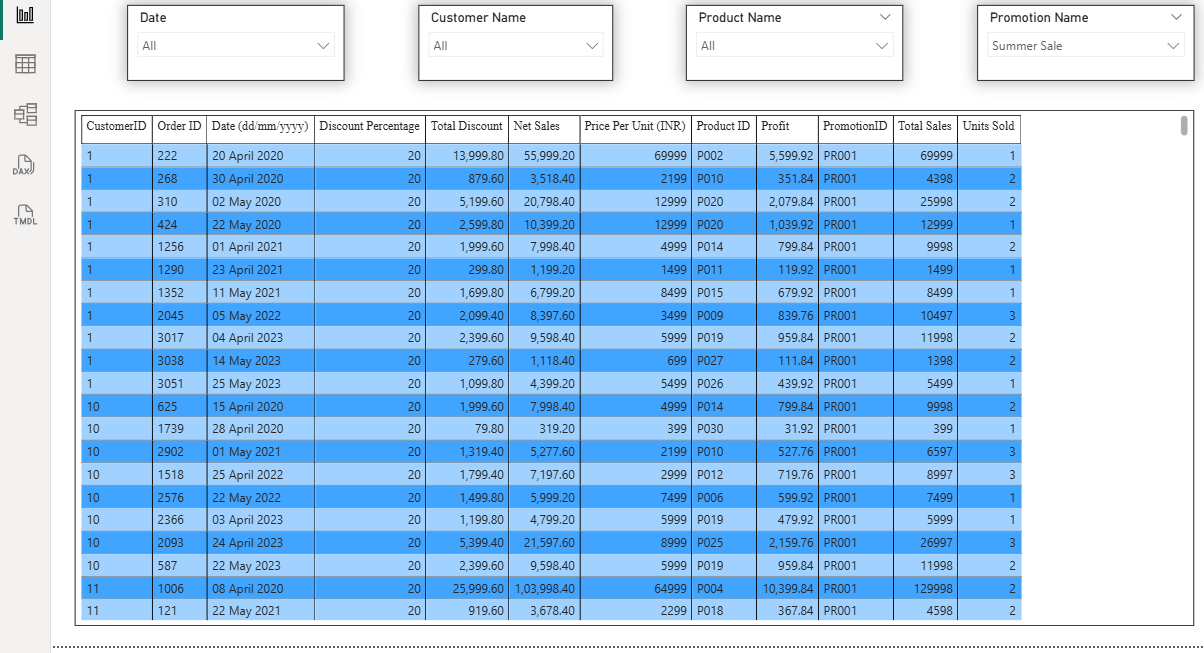

The page's visual inventory and layout, read from the dashboard file:
{"tool":"powerbi","page":{"name":"Table Visual","canvas":[1280,720],"ordinal":4},"visuals":[{"type":"tableEx","fields":{"Values":["Fact Table.CustomerID","Fact Table.Order ID","Fact Table.Date (dd/mm/yyyy)","Fact Table.Discount Percentage","Fact Table.Discount Value","Fact Table.Net Sales ","Fact Table.Price Per Unit (INR)","Fact Table.Product ID","Fact Table.Profit","Fact Table.PromotionID","Fact Table.Total Sales ","Fact Table.Units Sold"]},"box":[25.7,132.1,1228.9,566.2],"z":0},{"type":"slicer","fields":{"Values":["Date Table 1.Date"]},"box":[84.4,17.1,238.5,83.2],"z":1},{"type":"slicer","fields":{"Values":["Dim Customers.Customer Name"]},"box":[403.1,17.1,214,83.2],"z":2},{"type":"slicer","fields":{"Values":["Dim Product.Product Name"]},"box":[697.4,17.1,238.5,83.2],"z":3},{"type":"slicer","fields":{"Values":["Dim Promotion.Promotion Name"]},"box":[1016.2,17.1,238.5,83.2],"z":4}]}

Visuals, with their boxes on the page's 1280x720 design canvas (x1, y1, x2, y2). These are canvas units, not pixel positions in the 1204x653 screenshot, which may show the page scaled, cropped or inside an application window:
tableEx - Fact Table.CustomerID x Fact Table.Order ID: <box>26,132,1255,698</box>
slicer - Date Table 1.Date: <box>84,17,323,100</box>
slicer - Dim Customers.Customer Name: <box>403,17,617,100</box>
slicer - Dim Product.Product Name: <box>697,17,936,100</box>
slicer - Dim Promotion.Promotion Name: <box>1016,17,1255,100</box>
